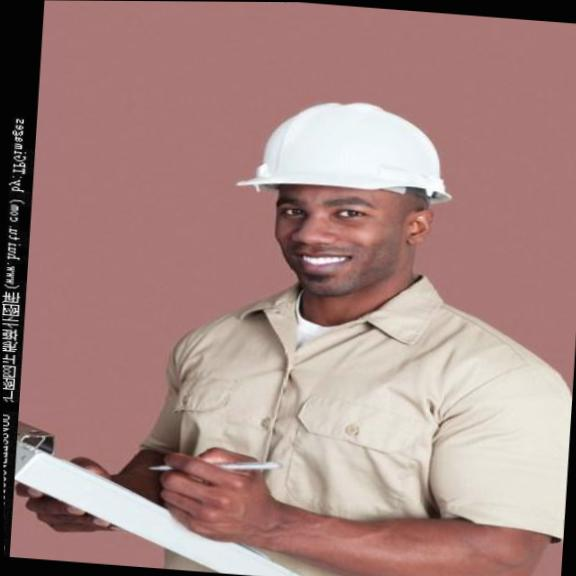no_safety_vest: (126, 265, 576, 576)
